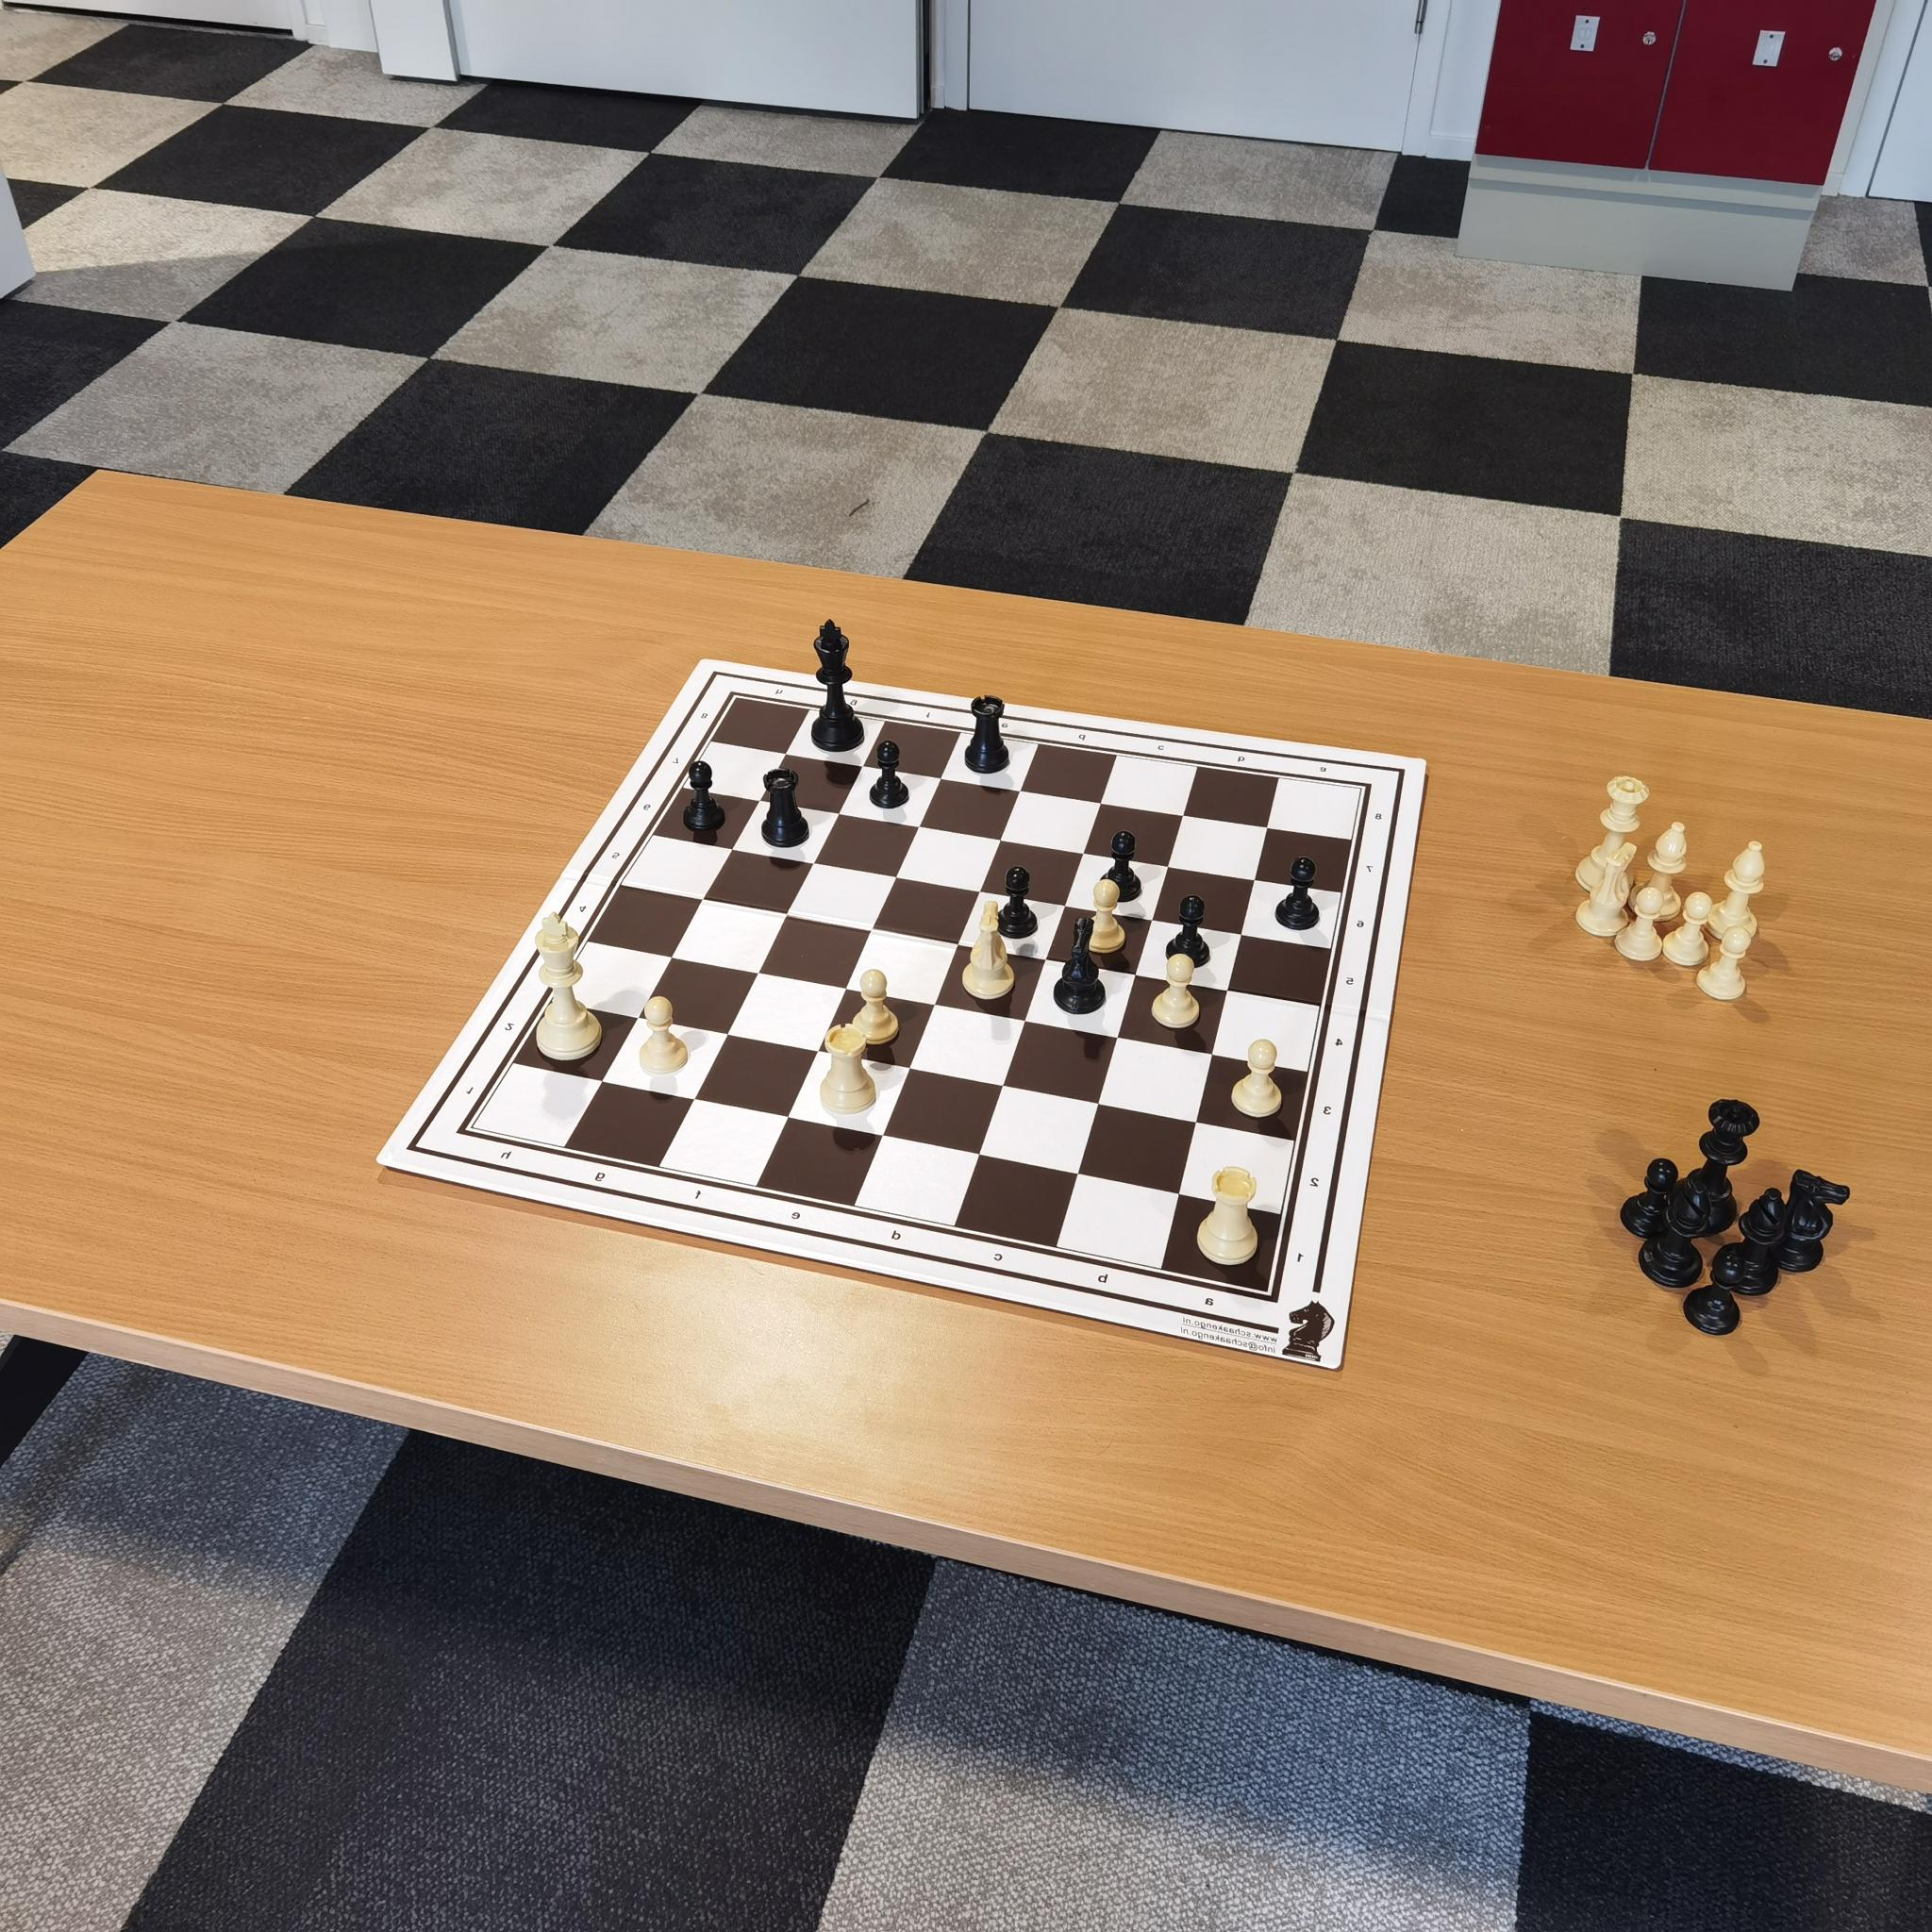corners: (1256, 1279, 1292, 1318), (442, 1113, 481, 1146), (1348, 775, 1380, 803), (722, 681, 748, 708)
eight: (692, 701, 715, 729), (1368, 803, 1387, 833)
one: (1283, 1235, 1316, 1272), (451, 1074, 487, 1108)
